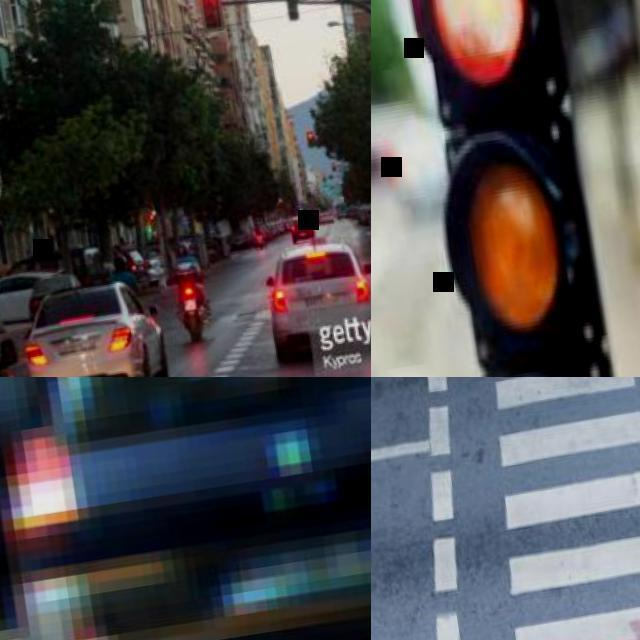car: (271, 241, 368, 365), (0, 272, 79, 366)
